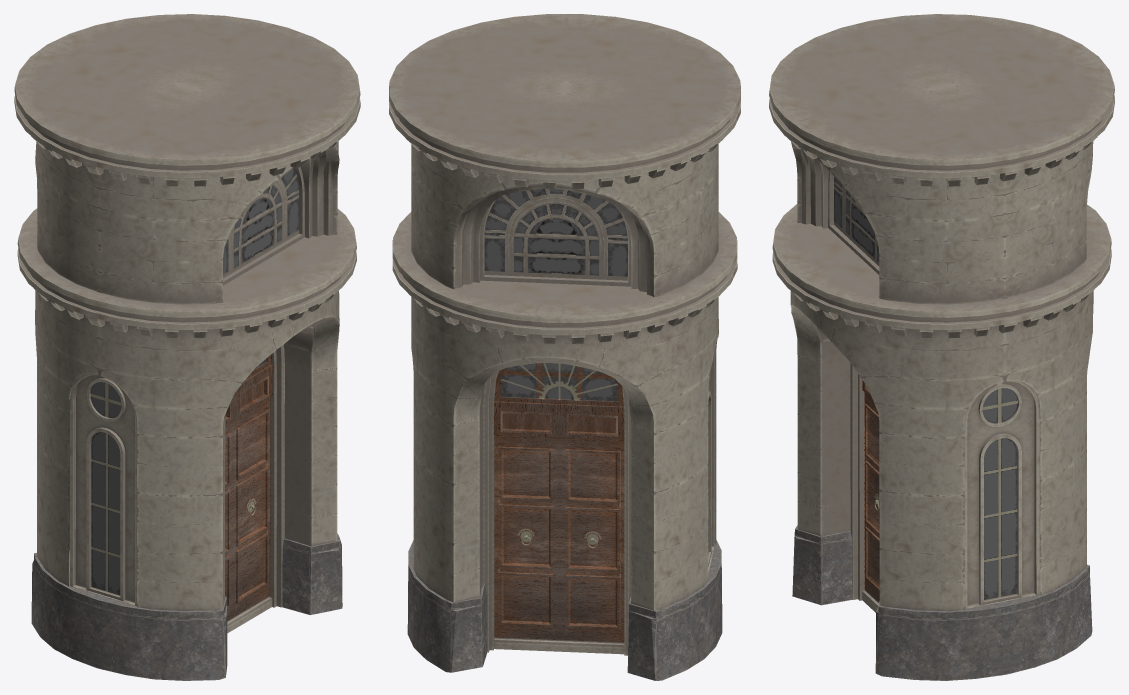
The picture shows the model from 3 angles, left to right: view 1: azimuth 30°, elevation 25°; view 2: azimuth 150°, elevation 25°; view 3: azimuth 270°, elevation 25°; orthographic projection. The views are drawn at different scales.
Parts seen in each view (by area): view 1: SM_roundbuildingJoinHN_002; view 2: SM_roundbuildingJoinHN_002; view 3: SM_roundbuildingJoinHN_002.
Part boxes in pixels (x1,y1,x2,y2): SM_roundbuildingJoinHN_002: [14, 14, 360, 680]; SM_roundbuildingJoinHN_002: [389, 14, 740, 680]; SM_roundbuildingJoinHN_002: [769, 14, 1114, 680].
Size of the model in its own units: 440 by 740 by 439.
